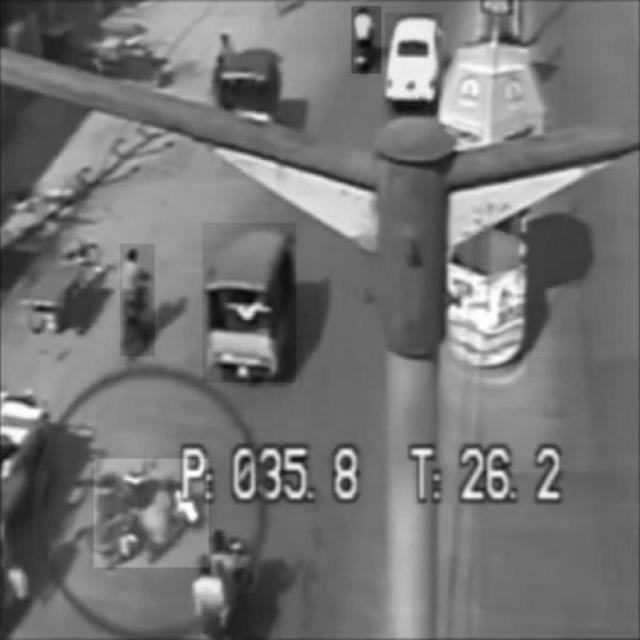vehicle: (203, 222, 296, 382), (94, 460, 208, 568), (386, 13, 443, 103), (119, 244, 155, 356), (351, 7, 381, 74)
